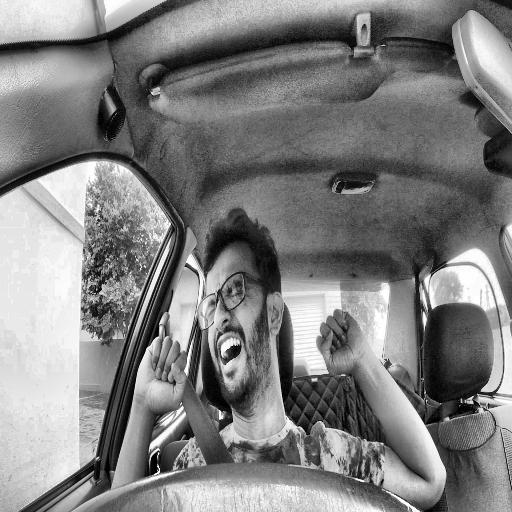drowsy: (197, 206, 285, 408)
